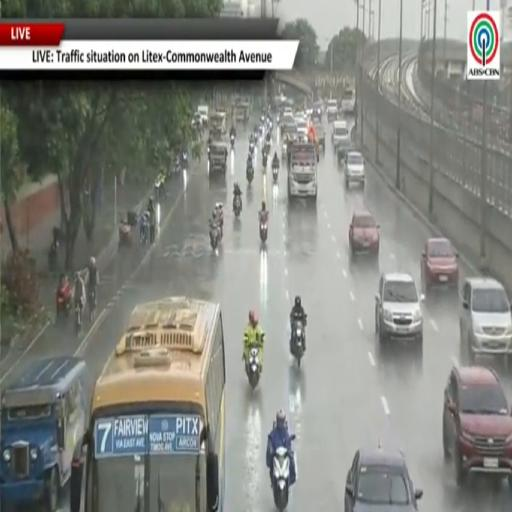bus: (71, 297, 226, 511)
car: (443, 364, 511, 488), (345, 443, 423, 511), (460, 277, 511, 362), (375, 272, 424, 346), (421, 237, 458, 292), (349, 210, 379, 255), (345, 151, 365, 188), (332, 121, 350, 153), (335, 138, 353, 166), (313, 123, 325, 153), (326, 100, 338, 122), (279, 109, 294, 126), (311, 102, 323, 122), (295, 117, 308, 135)
jeepney: (0, 357, 92, 511), (209, 141, 228, 177), (210, 112, 226, 134), (236, 102, 250, 123)
motorcycle: (272, 446, 293, 511), (291, 320, 305, 366), (246, 347, 260, 389), (56, 283, 71, 321), (119, 221, 133, 247), (48, 240, 58, 271), (88, 287, 96, 322), (75, 303, 83, 335), (154, 176, 164, 200), (210, 227, 220, 250), (140, 220, 149, 245), (233, 196, 242, 217), (259, 220, 267, 243), (181, 152, 188, 171), (246, 167, 253, 183), (262, 153, 267, 171), (273, 166, 278, 184), (264, 141, 270, 154), (230, 135, 235, 150), (249, 142, 254, 155), (268, 121, 273, 133), (259, 123, 263, 138), (254, 131, 258, 142)
truck: (288, 141, 317, 200), (341, 86, 356, 116)
